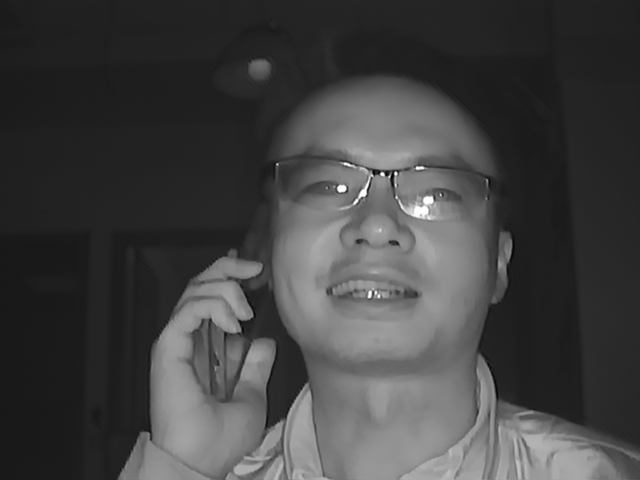hand: (146, 251, 284, 453)
